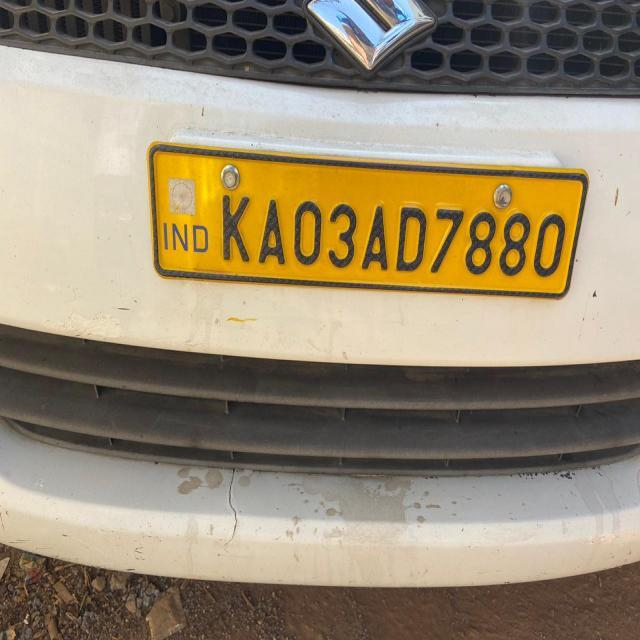0: (532, 202, 568, 286), (292, 180, 325, 268)
3: (327, 187, 357, 285)
7: (432, 194, 464, 278)
8: (466, 202, 498, 278), (501, 202, 531, 280)
A: (255, 180, 289, 273), (364, 185, 390, 278)
D: (395, 191, 429, 276)
K: (216, 180, 254, 269)
